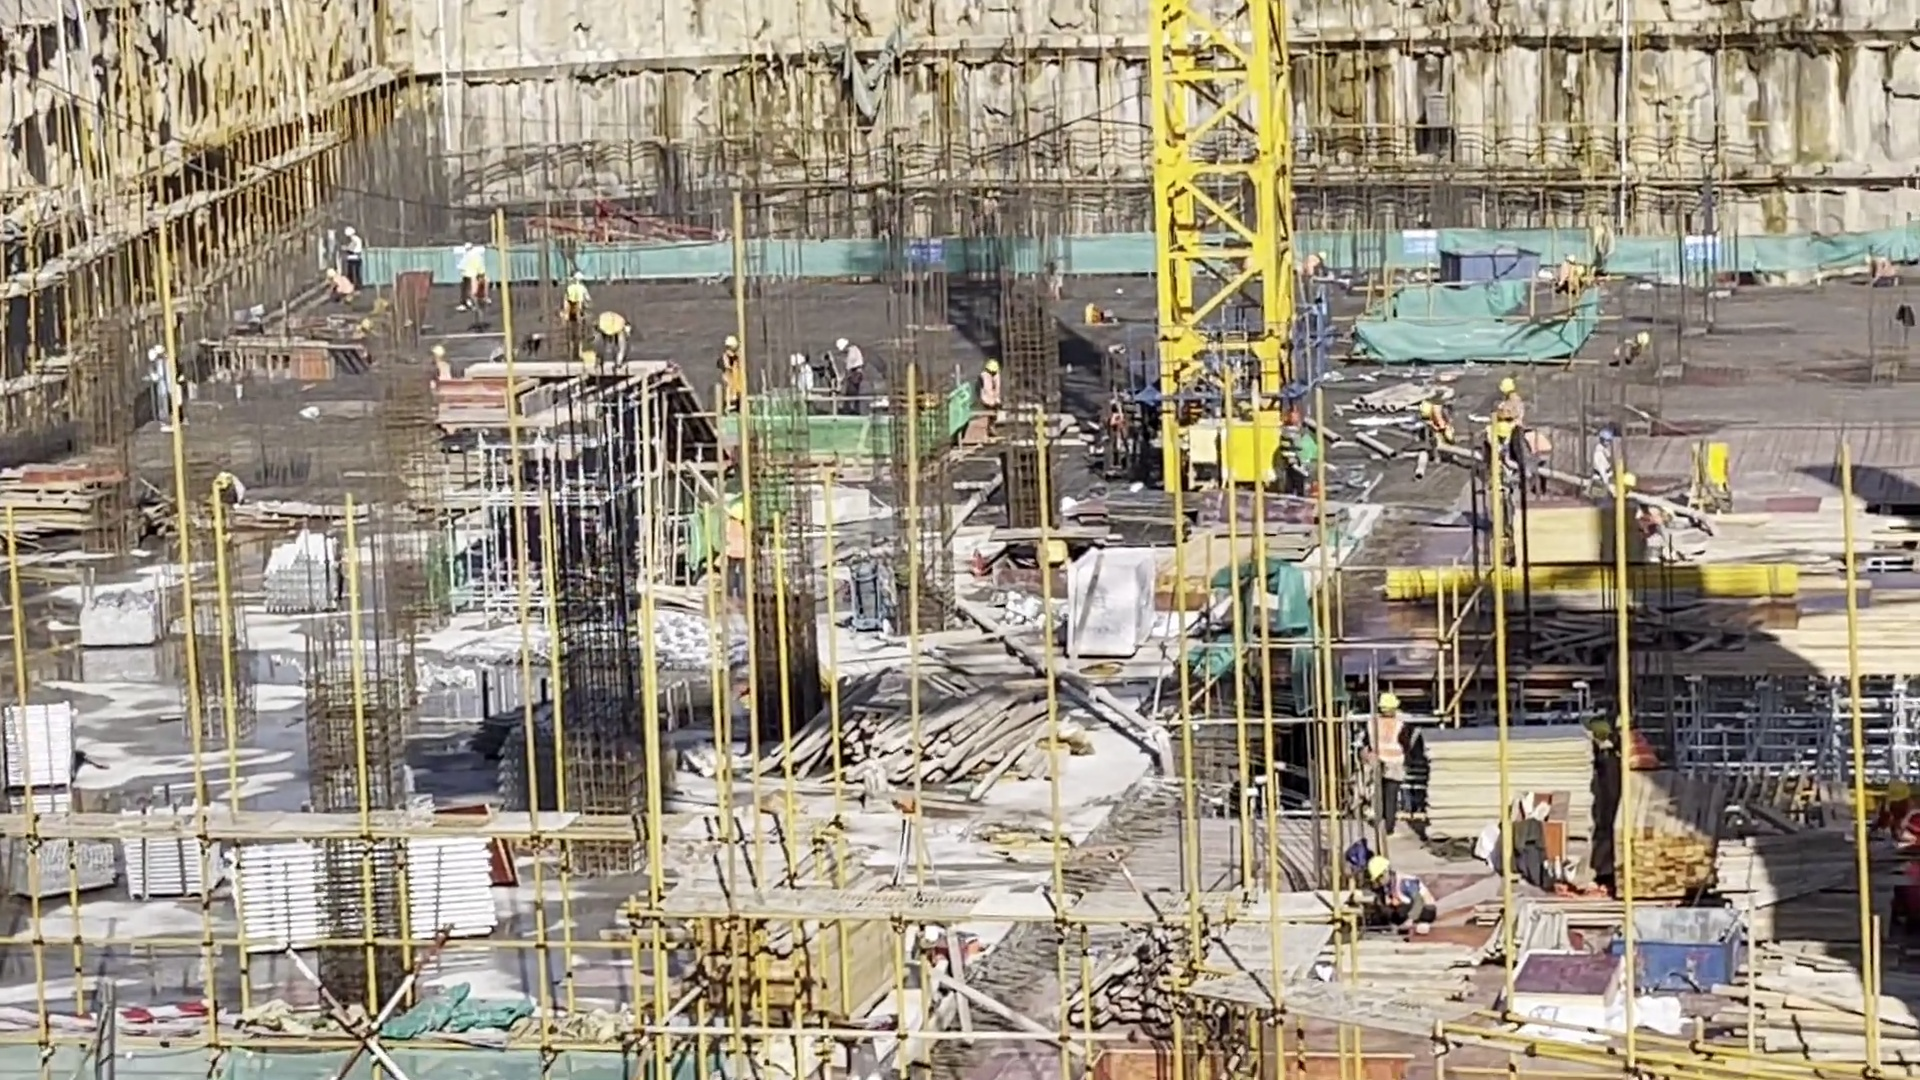helmet: (1607, 714, 1641, 739), (1368, 854, 1394, 885), (1881, 781, 1910, 804), (1376, 695, 1403, 715), (604, 311, 622, 330), (1493, 378, 1518, 389), (983, 357, 997, 374), (1419, 401, 1433, 416), (220, 474, 232, 489), (1601, 429, 1613, 444), (725, 334, 740, 345), (1641, 327, 1647, 351), (570, 272, 584, 282), (148, 347, 160, 359), (1317, 247, 1329, 259), (791, 353, 802, 365), (834, 338, 848, 345), (1565, 252, 1575, 263), (476, 264, 488, 271), (345, 225, 355, 235), (324, 269, 336, 275), (159, 345, 167, 355), (1867, 253, 1873, 262)
person: (1353, 690, 1438, 823), (1884, 781, 1920, 929), (1483, 372, 1535, 459), (155, 339, 202, 431), (818, 337, 872, 410), (707, 330, 752, 415), (976, 358, 1017, 442), (556, 263, 591, 361), (1602, 712, 1672, 759), (1364, 858, 1428, 908), (596, 301, 639, 372), (1589, 422, 1625, 490), (204, 464, 258, 508), (782, 346, 817, 411), (145, 345, 172, 432), (1425, 389, 1454, 465), (1557, 255, 1596, 312), (1612, 328, 1653, 375), (339, 222, 370, 282), (467, 258, 493, 331), (1865, 250, 1906, 293), (1303, 243, 1338, 282), (322, 273, 362, 295)
vest: (1886, 809, 1919, 897), (1378, 873, 1439, 914), (1371, 716, 1410, 781), (1624, 731, 1661, 775), (722, 346, 751, 396), (1430, 408, 1453, 446), (1507, 398, 1530, 436), (1590, 447, 1611, 485), (596, 318, 629, 342), (567, 284, 589, 316), (213, 478, 242, 501), (154, 360, 172, 400), (1613, 333, 1639, 359), (1552, 263, 1577, 287), (469, 276, 486, 308), (1876, 256, 1895, 282), (331, 269, 351, 291), (983, 376, 999, 401), (847, 351, 865, 373), (797, 364, 809, 393), (1301, 256, 1319, 275), (350, 237, 361, 264)
